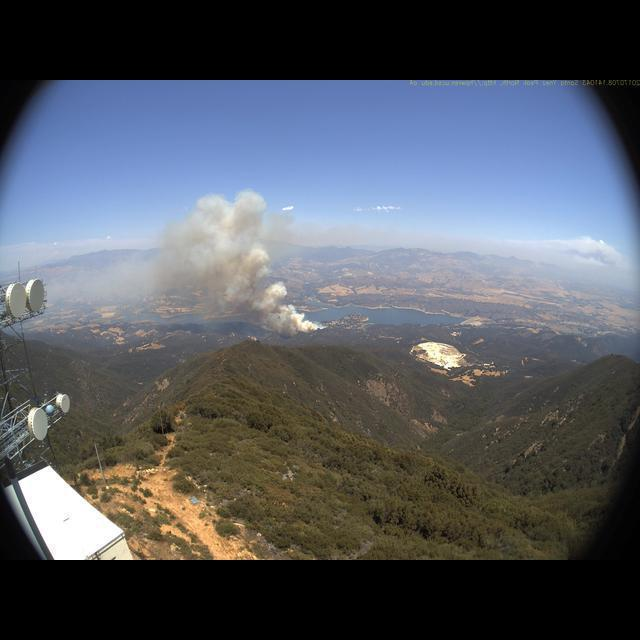Smoke: (120, 184, 328, 338)
